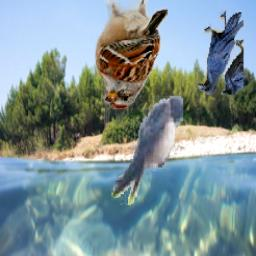Crow: (198, 10, 245, 95)
Sparrow: (95, 0, 169, 110)
Swallow: (112, 96, 184, 205)
